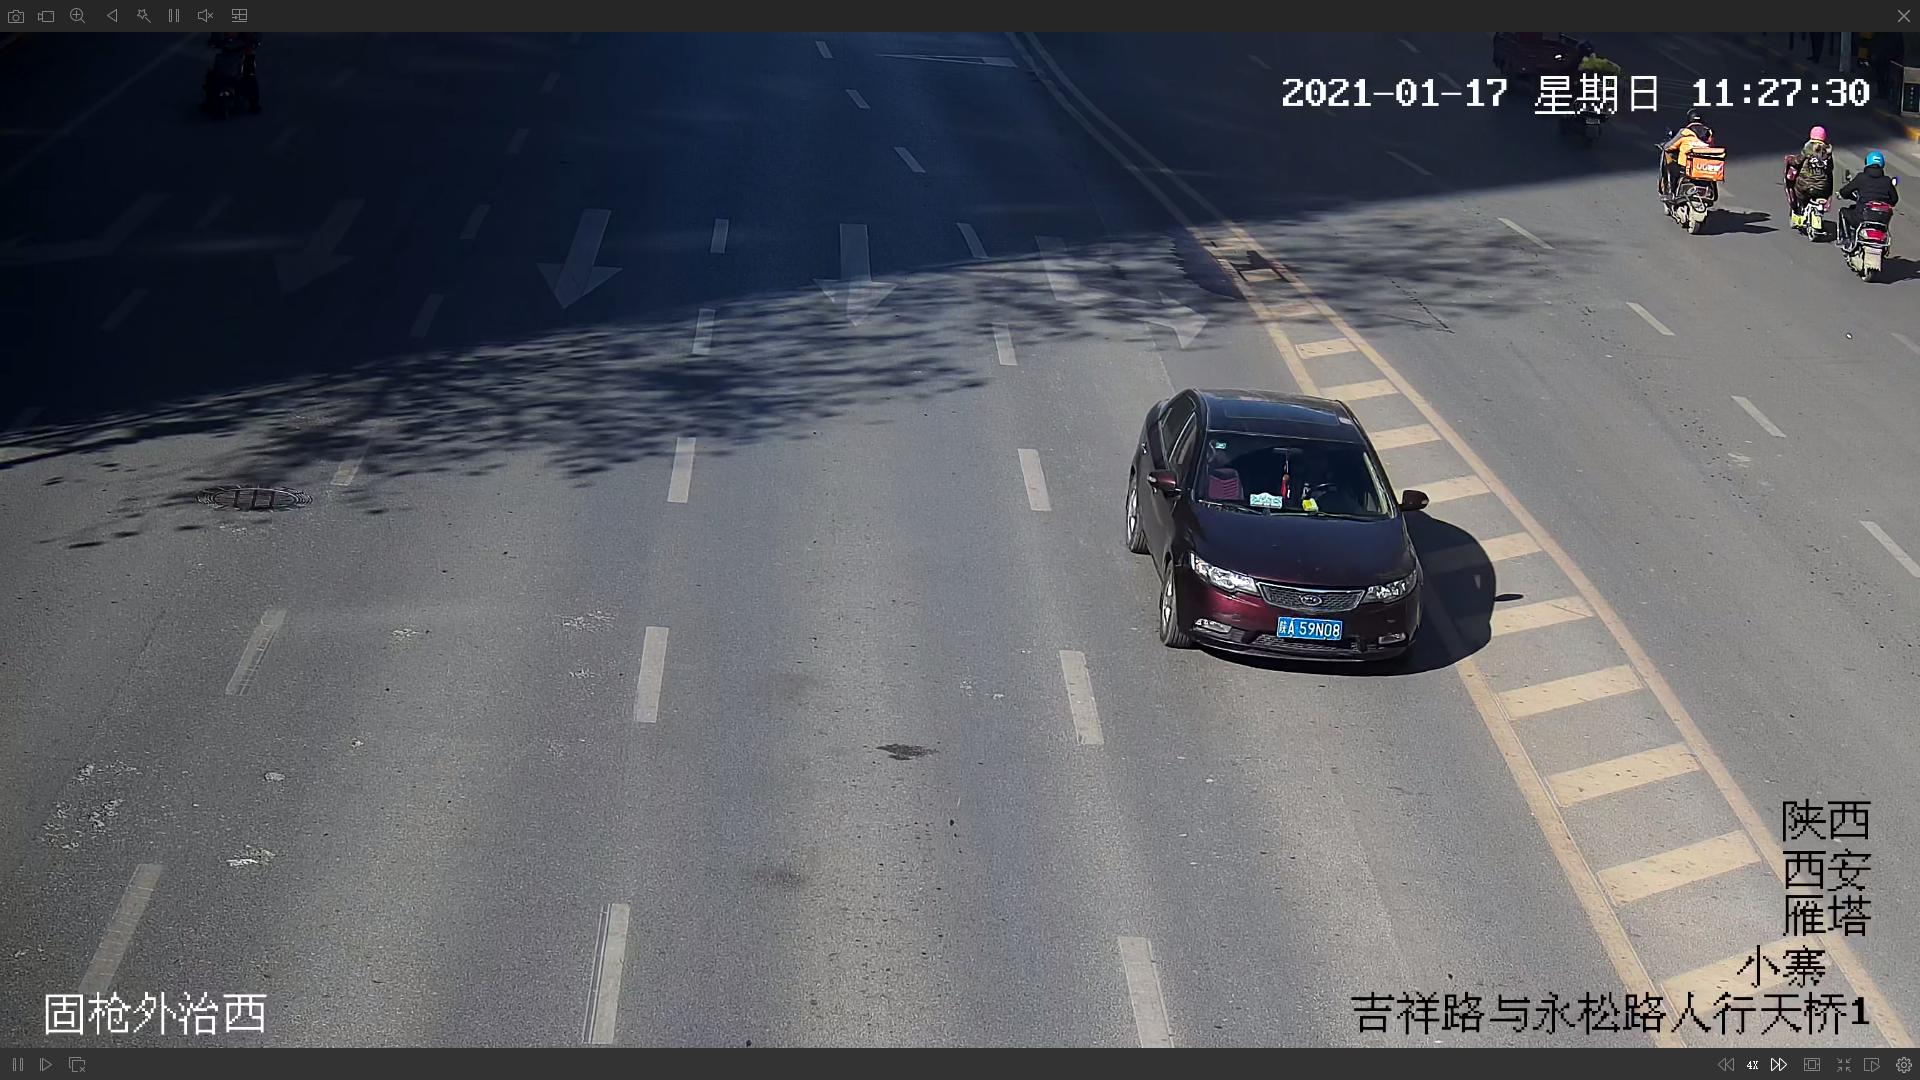dark-red: (1124, 388, 1436, 666)
